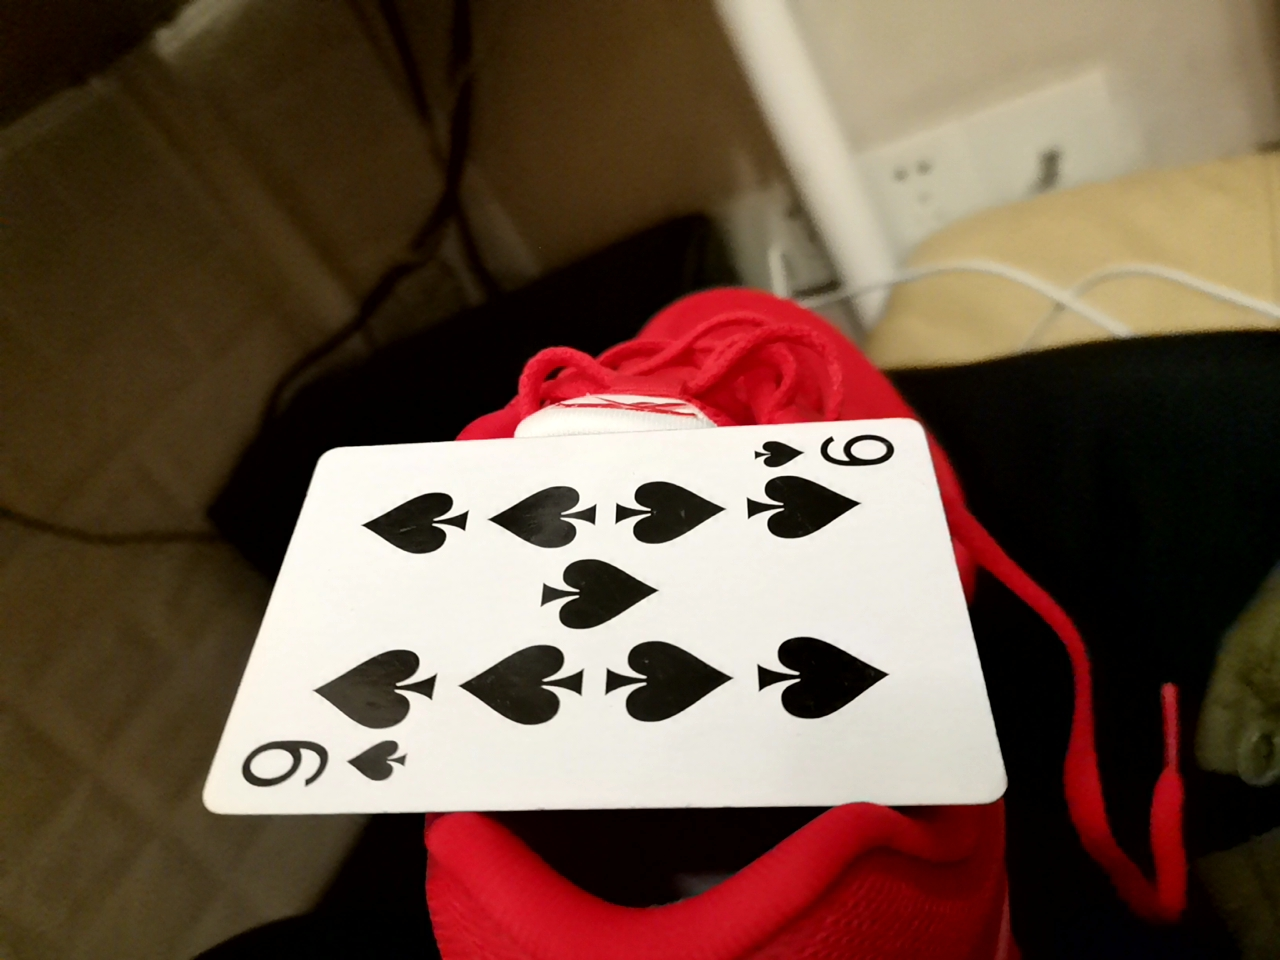ht 9: (207, 396, 1002, 831)
